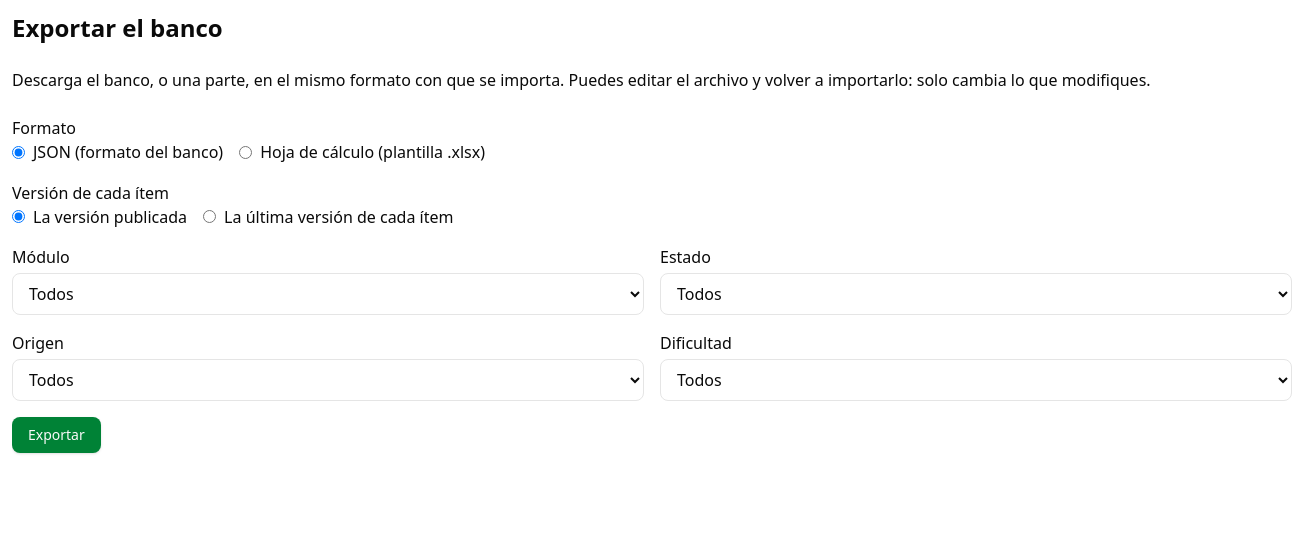
exportación del banco › exporta en JSON lo publicado sin filtros por omisión
Expected: the radio button labelled "JSON (formato del banco)" is checked, [12, 146, 25, 158]
Expected: the radio button labelled "La versión publicada" is checked, [12, 210, 25, 223]
Click the button "Exportar" at [56, 435], box [12, 417, 101, 453]
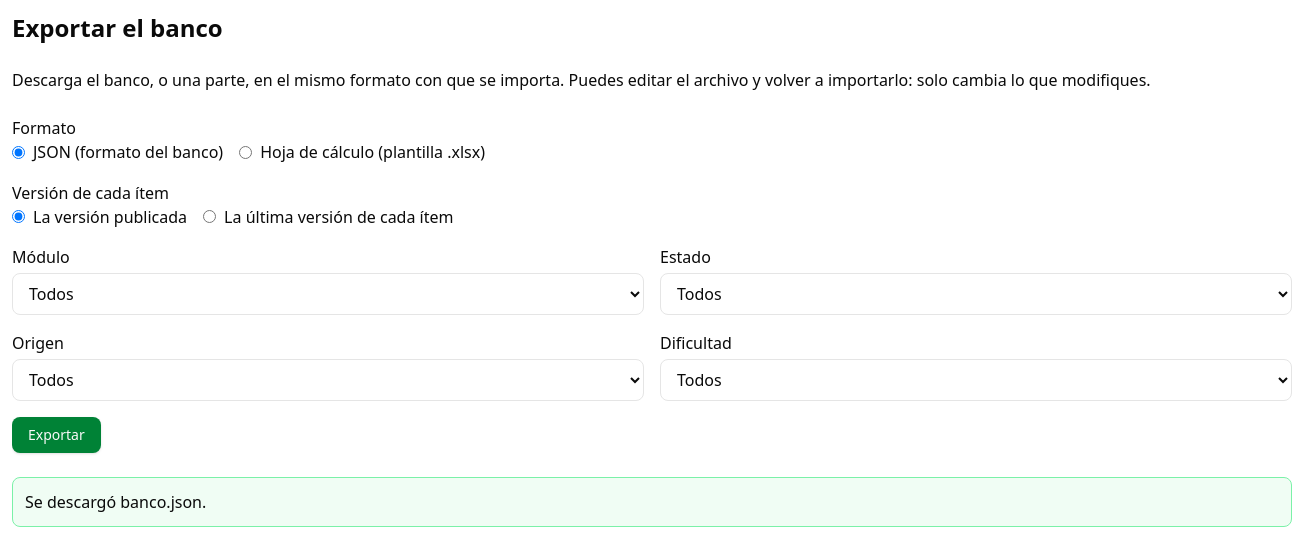
Now the message reads "Se descargó banco.json.", box [25, 491, 206, 513]
